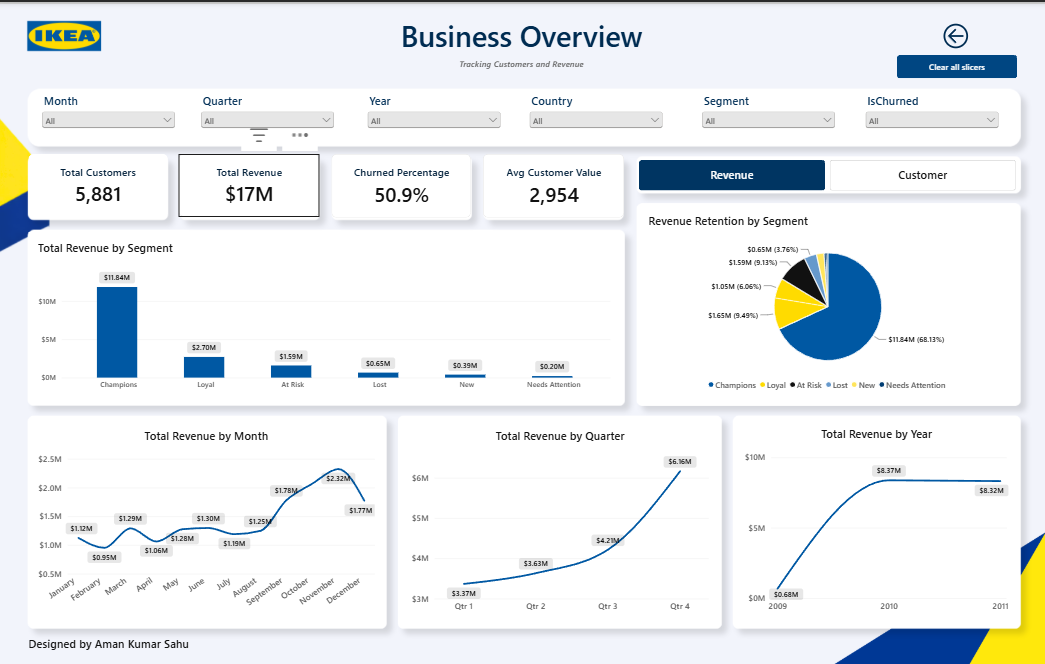

The page's visual inventory and layout, read from the dashboard file:
{"tool":"powerbi","page":{"name":"Overview","canvas":[1750,1100],"ordinal":1},"visuals":[{"type":"cardVisual","fields":{"Data":["Sheet1.Total Customers"]},"box":[51.7,250.6,232.6,106.7],"z":0},{"type":"columnChart","title":"Total Revenue by Segment","fields":{"Category":["Sheet1.Segment"],"Y":["Sheet1.Total Revenue"]},"box":[54,380.7,985.9,283.7],"z":0,"group":"g1"},{"type":"cardVisual","fields":{"Data":["Sheet1.Total Revenue"]},"box":[302.4,251.2,234.1,104.9],"z":1000},{"type":"pieChart","title":"Revenue Retention by Segment","fields":{"Category":["Sheet1.Segment"],"Series":["Sheet1.IsChurned"],"Y":["Sheet1.Total Revenue"]},"box":[1070.4,334.9,629.7,329.7],"z":1000,"group":"g1"},{"type":"cardVisual","fields":{"Data":["Sheet1.Churned Percentage"]},"box":[558.4,250.6,232.6,106.7],"z":2000},{"type":"lineChart","title":"Total Revenue by Month","fields":{"Category":["Sheet1.InvoiceMonth.Variation.Date Hierarchy.Month"],"Y":["Sheet1.Total Revenue"]},"box":[53.5,693,593,343],"z":2000,"group":"g1"},{"type":"cardVisual","fields":{"Data":["Sheet1.Avg Customer Value"]},"box":[810.1,250.6,236,106.7],"z":3000},{"type":"lineChart","title":"Total Revenue by Quarter","fields":{"Category":["Sheet1.InvoiceMonth.Variation.Date Hierarchy.Quarter"],"Y":["Sheet1.Total Revenue"]},"box":[675,692.5,527.5,342.5],"z":3000,"group":"g1"},{"type":"slicer","fields":{"Values":["Sheet1.InvoiceDate.Variation.Date Hierarchy.Month"]},"box":[70.4,146.9,231.6,83.7],"z":4000},{"type":"lineChart","title":"Total Revenue by Year","fields":{"Category":["Sheet1.InvoiceMonth.Variation.Date Hierarchy.Year"],"Y":["Sheet1.Total Revenue"]},"box":[1231.1,691.1,472.2,344.3],"z":4000,"group":"g1"},{"type":"slicer","fields":{"Values":["Sheet1.InvoiceDate.Variation.Date Hierarchy.Quarter"]},"box":[335.7,146.9,231.6,83.7],"z":5000},{"type":"slicer","fields":{"Values":["Sheet1.InvoiceDate.Variation.Date Hierarchy.Year"]},"box":[612.2,146.9,231.6,83.7],"z":6000},{"type":"slicer","fields":{"Values":["Sheet1.Country"]},"box":[882.7,146.9,231.6,83.7],"z":7000},{"type":"slicer","fields":{"Values":["Sheet1.Segment"]},"box":[1170,146.7,231.6,83.7],"z":8000},{"type":"slicer","fields":{"Values":["Sheet1.IsChurned"]},"box":[1442.9,146.9,231.6,83.7],"z":9000},{"type":"group","id":"g1","title":"Revenue","box":[53.5,334.9,1649.8,701.2],"z":11000},{"type":"bookmarkNavigator","box":[1070.5,259.7,629.5,51.7],"z":12000},{"type":"textbox","box":[51.4,1053.6,592.9,36.4],"z":13000},{"type":"image","box":[0,0,224.4,106.7],"z":14000},{"type":"textbox","box":[578.3,20,593.3,102.2],"z":15000},{"type":"textbox","box":[578.3,88.9,593.3,33.3],"z":16000},{"type":"actionButton","box":[1498.7,17.3,201.3,72],"z":17000},{"type":"actionButton","box":[1500,83.8,200,39],"z":18000}]}

Visuals, with their boxes in screenshot pixels (x1, y1, x2, y2), scaled from the page's 1750x1100 canvas onto the 1045x664 screenshot:
cardVisual - Sheet1.Total Customers: crop(31, 151, 170, 216)
"Total Revenue by Segment" columnChart: crop(32, 230, 621, 401)
cardVisual - Sheet1.Total Revenue: crop(181, 152, 320, 215)
"Revenue Retention by Segment" pieChart: crop(639, 202, 1015, 401)
cardVisual - Sheet1.Churned Percentage: crop(333, 151, 472, 216)
"Total Revenue by Month" lineChart: crop(32, 418, 386, 625)
cardVisual - Sheet1.Avg Customer Value: crop(484, 151, 625, 216)
"Total Revenue by Quarter" lineChart: crop(403, 418, 718, 625)
slicer - Sheet1.InvoiceDate.Variation.Date Hierarchy.Month: crop(42, 89, 180, 139)
"Total Revenue by Year" lineChart: crop(735, 417, 1017, 625)
slicer - Sheet1.InvoiceDate.Variation.Date Hierarchy.Quarter: crop(200, 89, 339, 139)
slicer - Sheet1.InvoiceDate.Variation.Date Hierarchy.Year: crop(366, 89, 504, 139)
slicer - Sheet1.Country: crop(527, 89, 665, 139)
slicer - Sheet1.Segment: crop(699, 89, 837, 139)
slicer - Sheet1.IsChurned: crop(862, 89, 1000, 139)
"Revenue" group: crop(32, 202, 1017, 625)
bookmarkNavigator: crop(639, 157, 1015, 188)
textbox: crop(31, 636, 385, 658)
image: crop(0, 0, 134, 64)
textbox: crop(345, 12, 700, 74)
textbox: crop(345, 54, 700, 74)
actionButton: crop(895, 10, 1015, 54)
actionButton: crop(896, 51, 1015, 74)
